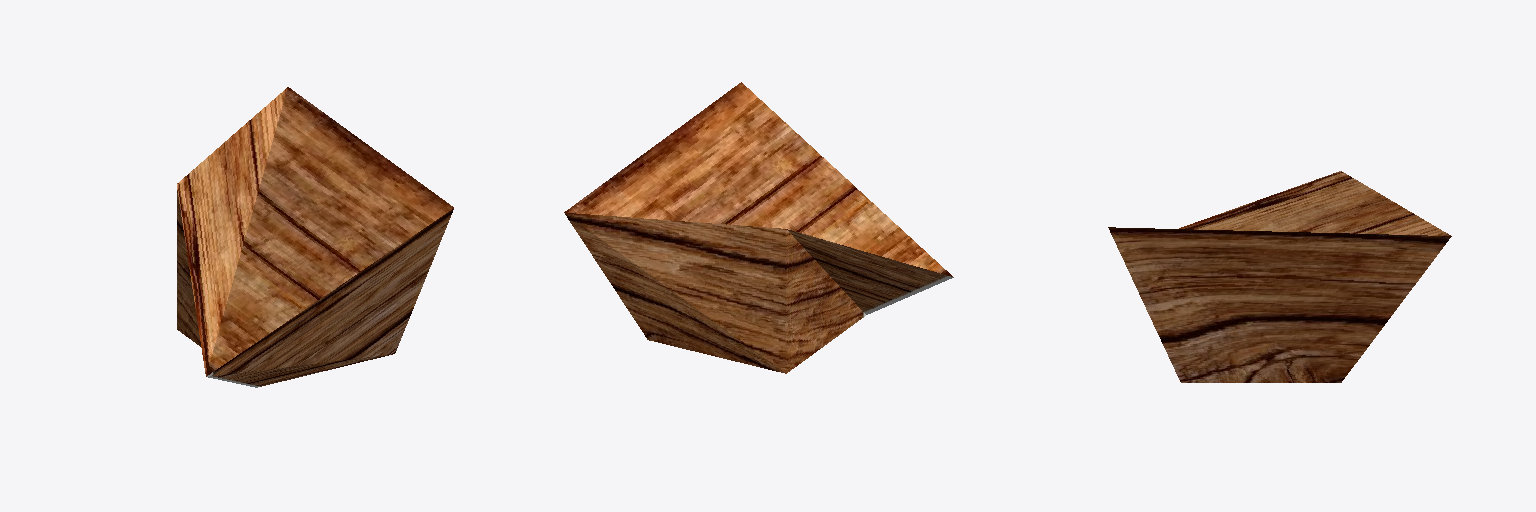
The picture shows the model from 3 angles: view 1: azimuth 30°, elevation 25°; view 2: azimuth 150°, elevation 25°; view 3: azimuth 270°, elevation 25°; orthographic projection.
Visible parts, largest first — view 1: Cube; view 2: Cube; view 3: Cube.
Part boxes in pixels (bbox=[...]): Cube: bbox=[177, 87, 453, 387]; Cube: bbox=[564, 82, 953, 373]; Cube: bbox=[1108, 171, 1451, 382].
Bounding box in the file's own units: 3.41 × 2.31 × 4.3.
Materials: 1 (1 with a texture image).